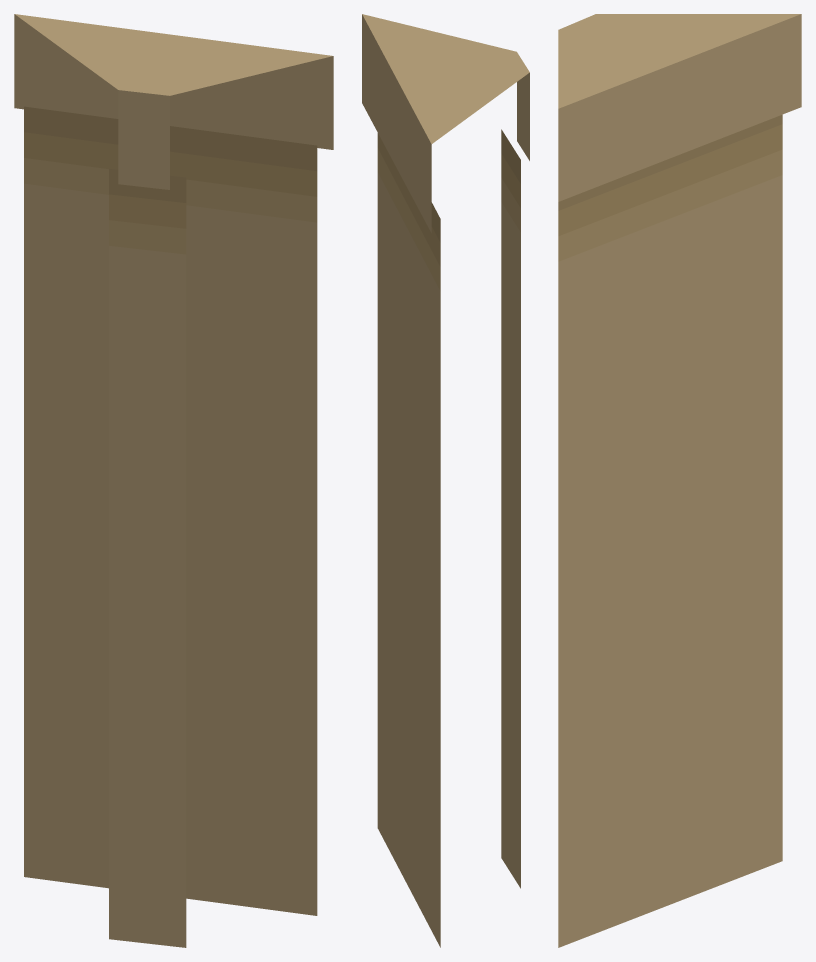
File: obj_wall_12_1.obj
3 views of the same model, side by side, from view 1: azimuth 30°, elevation 25°; view 2: azimuth 150°, elevation 25°; view 3: azimuth 270°, elevation 25° (orthographic). The views are drawn at different scales.
Bounding box in the file's own units: 0.1875 × 0.7812 × 0.2031.
